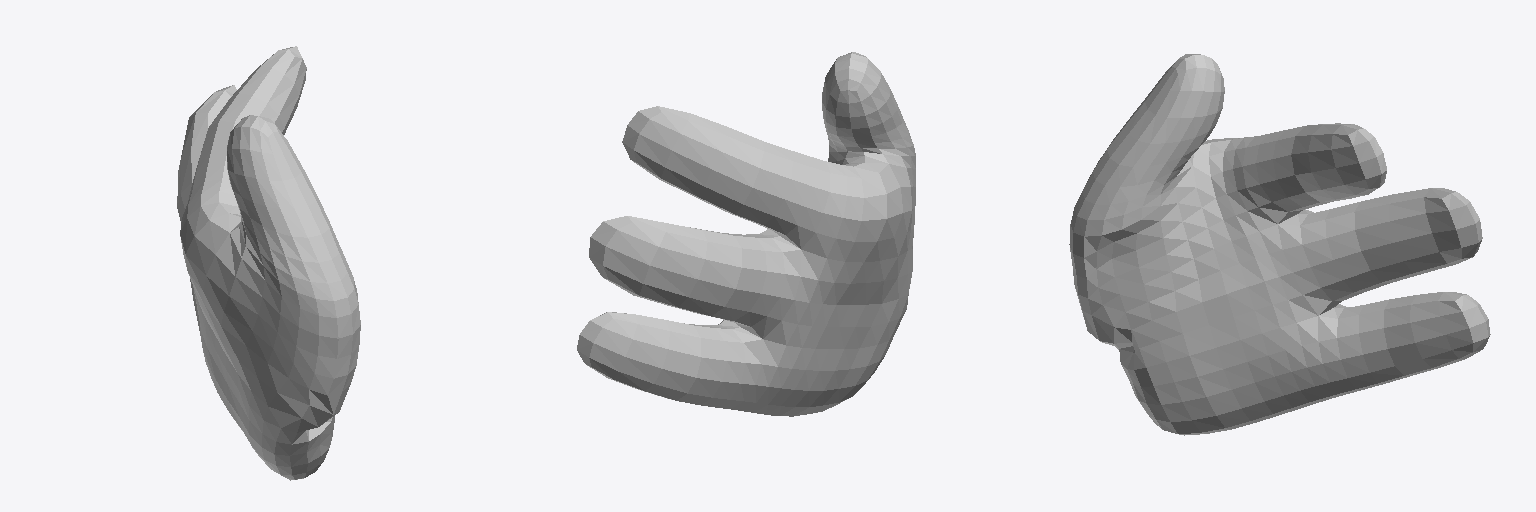
The model's file is 2hands_grab_L.obj.
3 renders of one model, left to right at view 1: azimuth 30°, elevation 25°; view 2: azimuth 150°, elevation 25°; view 3: azimuth 270°, elevation 25°, orthographic.
Parts seen in each view (by area): view 1: hands_grab_L_Cube.001; view 2: hands_grab_L_Cube.001; view 3: hands_grab_L_Cube.001.
Boxes of the visible parts, <box> form: hands_grab_L_Cube.001: <box>177,46,360,480</box>; hands_grab_L_Cube.001: <box>577,52,915,416</box>; hands_grab_L_Cube.001: <box>1069,54,1490,435</box>.
Size of the model in its own units: 1.34 by 2.45 by 2.58.